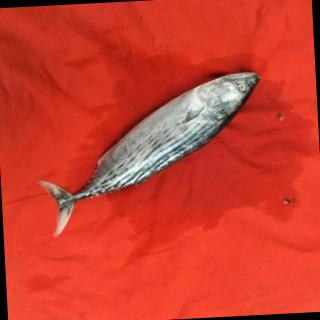Ikan: (28, 67, 273, 250)
